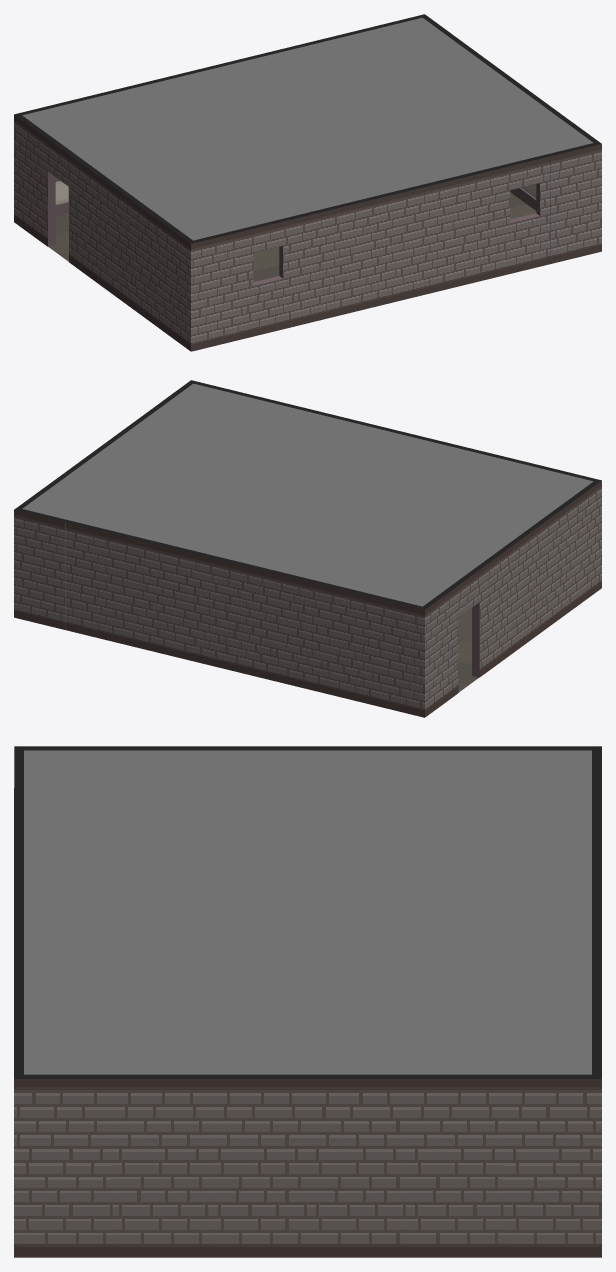
File: new_room_2.glb
The picture shows the model from 3 angles, top to bottom: view 1: azimuth 30°, elevation 25°; view 2: azimuth 150°, elevation 25°; view 3: azimuth 270°, elevation 25°; orthographic projection. The views are drawn at different scales.
Parts seen in each view (by area): view 1: mesh_floor_2x2_mat_floor_0.001, mesh_wall_corner_mat_wall_inside_1_0.003, mesh_wall_corner, mesh_wall_straight_mat_wall_inside_1_0.014, mesh_wall_straight_mat_wall_inside_1_0.015, mesh_wall_straight_mat_wall_inside_1_0.016, mesh_wall_straight_mat_wall_inside_1_0.013, mesh_wall_window_mat_wall_inside_1_0.001, mesh_wall_window, mesh_wall_corner_mat_wall_inside_1_0.002, mesh_wall_straight_mat_wall_inside_1_0.001, mesh_wall_straight (+4 smaller); view 2: mesh_floor_2x2_mat_floor_0.001, mesh_wall_corner_mat_wall_inside_1_0.002, mesh_wall_corner_mat_wall_inside_1_0.001, mesh_wall_straight_mat_wall_inside_1_0.006, mesh_wall_straight_mat_wall_inside_1_0.008, mesh_wall_straight_mat_wall_inside_1_0.007, mesh_wall_straight_mat_wall_inside_1_0.005, mesh_wall_straight_mat_wall_inside_1_0.009, mesh_wall_straight_mat_wall_inside_1_0.004, mesh_wall_corner_mat_wall_inside_1_0.003, mesh_wall_straight_mat_wall_inside_1_0.002, mesh_wall_straight (+3 smaller); view 3: mesh_floor_2x2_mat_floor_0.001, mesh_wall_corner_mat_wall_inside_1_0.001, mesh_wall_corner, mesh_wall_straight_mat_wall_inside_1_0.010, mesh_wall_straight_mat_wall_inside_1_0.011, mesh_wall_straight_mat_wall_inside_1_0.003, mesh_wall_straight_mat_wall_inside_1_0.012, mesh_wall_corner_mat_wall_inside_1_0.003, mesh_wall_corner_mat_wall_inside_1_0.002.
Boxes of the visible parts, x1=… form: mesh_floor_2x2_mat_floor_0.001: x1=22, y1=17, x2=593, y2=240; mesh_wall_corner_mat_wall_inside_1_0.003: x1=161, y1=221, x2=242, y2=351; mesh_wall_corner: x1=548, y1=123, x2=601, y2=263; mesh_wall_straight_mat_wall_inside_1_0.014: x1=342, y1=192, x2=396, y2=314; mesh_wall_straight_mat_wall_inside_1_0.015: x1=394, y1=179, x2=447, y2=301; mesh_wall_straight_mat_wall_inside_1_0.016: x1=445, y1=166, x2=499, y2=288; mesh_wall_straight_mat_wall_inside_1_0.013: x1=291, y1=204, x2=344, y2=326; mesh_wall_window_mat_wall_inside_1_0.001: x1=497, y1=154, x2=550, y2=276; mesh_wall_window: x1=240, y1=217, x2=293, y2=339; mesh_wall_corner_mat_wall_inside_1_0.002: x1=14, y1=102, x2=68, y2=243; mesh_wall_straight_mat_wall_inside_1_0.001: x1=102, y1=178, x2=136, y2=308; mesh_wall_straight: x1=73, y1=156, x2=107, y2=286; mesh_floor_2x2_mat_floor_0.001: x1=22, y1=383, x2=593, y2=606; mesh_wall_corner_mat_wall_inside_1_0.002: x1=373, y1=587, x2=454, y2=717; mesh_wall_corner_mat_wall_inside_1_0.001: x1=14, y1=488, x2=67, y2=629; mesh_wall_straight_mat_wall_inside_1_0.006: x1=219, y1=558, x2=273, y2=680; mesh_wall_straight_mat_wall_inside_1_0.008: x1=116, y1=533, x2=170, y2=654; mesh_wall_straight_mat_wall_inside_1_0.007: x1=168, y1=545, x2=222, y2=667; mesh_wall_straight_mat_wall_inside_1_0.005: x1=271, y1=570, x2=324, y2=692; mesh_wall_straight_mat_wall_inside_1_0.009: x1=65, y1=520, x2=119, y2=642; mesh_wall_straight_mat_wall_inside_1_0.004: x1=322, y1=583, x2=375, y2=704; mesh_wall_corner_mat_wall_inside_1_0.003: x1=548, y1=468, x2=601, y2=609; mesh_wall_straight_mat_wall_inside_1_0.002: x1=538, y1=500, x2=572, y2=630; mesh_wall_straight: x1=479, y1=544, x2=513, y2=673; mesh_floor_2x2_mat_floor_0.001: x1=24, y1=750, x2=591, y2=1074; mesh_wall_corner_mat_wall_inside_1_0.001: x1=503, y1=1037, x2=601, y2=1257; mesh_wall_corner: x1=14, y1=1037, x2=112, y2=1257; mesh_wall_straight_mat_wall_inside_1_0.010: x1=307, y1=1074, x2=405, y2=1257; mesh_wall_straight_mat_wall_inside_1_0.011: x1=208, y1=1074, x2=306, y2=1257; mesh_wall_straight_mat_wall_inside_1_0.003: x1=405, y1=1074, x2=503, y2=1257; mesh_wall_straight_mat_wall_inside_1_0.012: x1=109, y1=1074, x2=208, y2=1257; mesh_wall_corner_mat_wall_inside_1_0.003: x1=14, y1=746, x2=112, y2=787; mesh_wall_corner_mat_wall_inside_1_0.002: x1=503, y1=746, x2=601, y2=787.
Size of the model in its own units: 79.8 by 20 by 59.6.
Materials: 45 (44 with a texture image).
